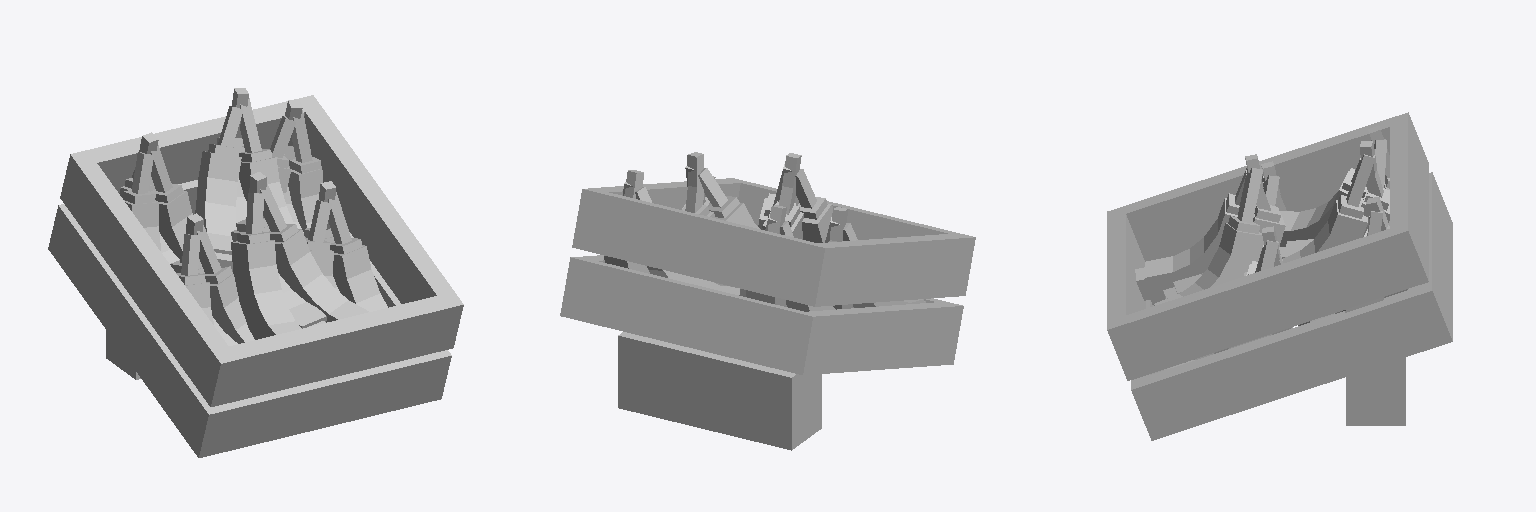
The model's file is 1756_banana_crate.obj.
The picture shows the model from 3 angles: view 1: azimuth 30°, elevation 25°; view 2: azimuth 150°, elevation 25°; view 3: azimuth 270°, elevation 25°; orthographic projection.
Parts seen in each view (by area): view 1: Side2, Front4, Side1, Side4, Front3, Front2, Banannab5, Banannab3, Bananna5, Bananna3, Stem3, Stem2 (+16 smaller); view 2: Block, Front2, Front1, Side1, Side2, Front4, Side4, Stem5, Bananna5, Side3, Stem6, Banannac5 (+4 smaller); view 3: Side4, Side3, Side2, Front2, Block, Front4, Front1, Banannab5, Stem4, Bananna, Stem5, Banannab3 (+8 smaller).
Part boxes in pixels (left/top/right/bottom): Side2: left=60, top=150, right=237, bottom=406; Front4: left=228, top=296, right=445, bottom=402; Side1: left=48, top=204, right=225, bottom=457; Side4: left=296, top=95, right=463, bottom=351; Front3: left=216, top=354, right=433, bottom=453; Front2: left=88, top=99, right=304, bottom=192; Banannab5: left=159, top=157, right=370, bottom=308; Banannab3: left=159, top=182, right=379, bottom=335; Bananna5: left=124, top=151, right=333, bottom=307; Bananna3: left=144, top=176, right=332, bottom=324; Stem3: left=151, top=123, right=351, bottom=273; Stem2: left=132, top=118, right=328, bottom=275; Block: left=618, top=332, right=821, bottom=450; Front2: left=589, top=192, right=813, bottom=302; Front1: left=578, top=261, right=803, bottom=370; Side1: left=786, top=302, right=963, bottom=374; Side2: left=798, top=233, right=975, bottom=306; Front4: left=738, top=182, right=955, bottom=239; Side4: left=572, top=178, right=746, bottom=251; Stem5: left=624, top=152, right=847, bottom=241; Bananna5: left=647, top=203, right=832, bottom=303; Side3: left=560, top=255, right=604, bottom=319; Stem6: left=635, top=168, right=855, bottom=240; Banannac5: left=604, top=211, right=845, bottom=309; Side4: left=1107, top=223, right=1428, bottom=380; Side3: left=1131, top=282, right=1452, bottom=440; Side2: left=1107, top=112, right=1428, bottom=261; Front2: left=1390, top=121, right=1428, bottom=271; Block: left=1346, top=357, right=1405, bottom=425; Front4: left=1107, top=214, right=1145, bottom=321; Front1: left=1414, top=181, right=1452, bottom=331; Banannab5: left=1219, top=200, right=1389, bottom=336; Stem4: left=1243, top=139, right=1386, bottom=269; Bananna: left=1145, top=211, right=1309, bottom=323; Stem5: left=1245, top=125, right=1389, bottom=260; Banannab3: left=1208, top=221, right=1371, bottom=345.
Size of the model in its own units: 0.875 by 0.8757 by 1.08.